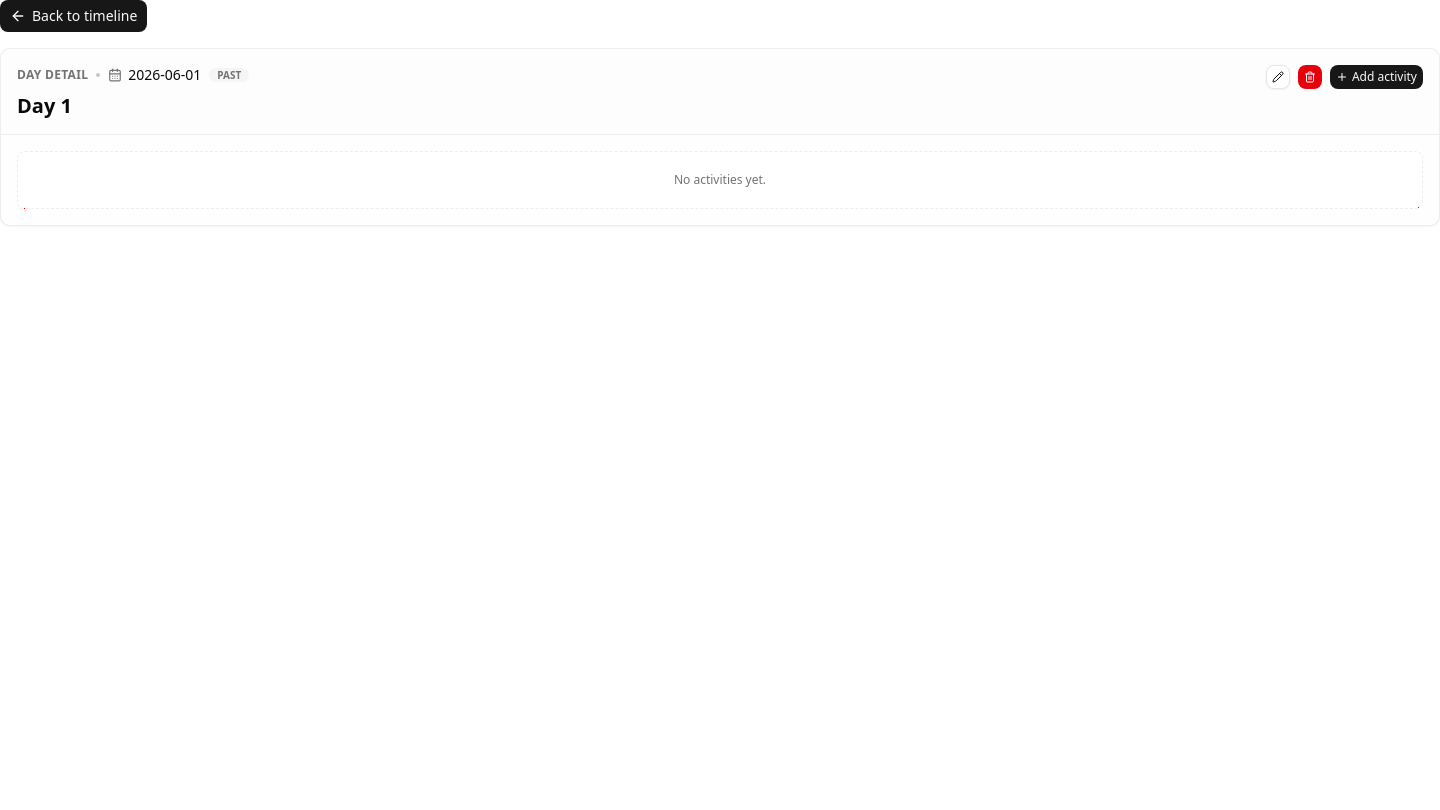
it: TimelineTab › shows the date field when editing an in-range day
This screenshot has width=1440, height=810.
Click the button named "Edit Day 1" at (1278, 77), box [1266,65,1290,89]
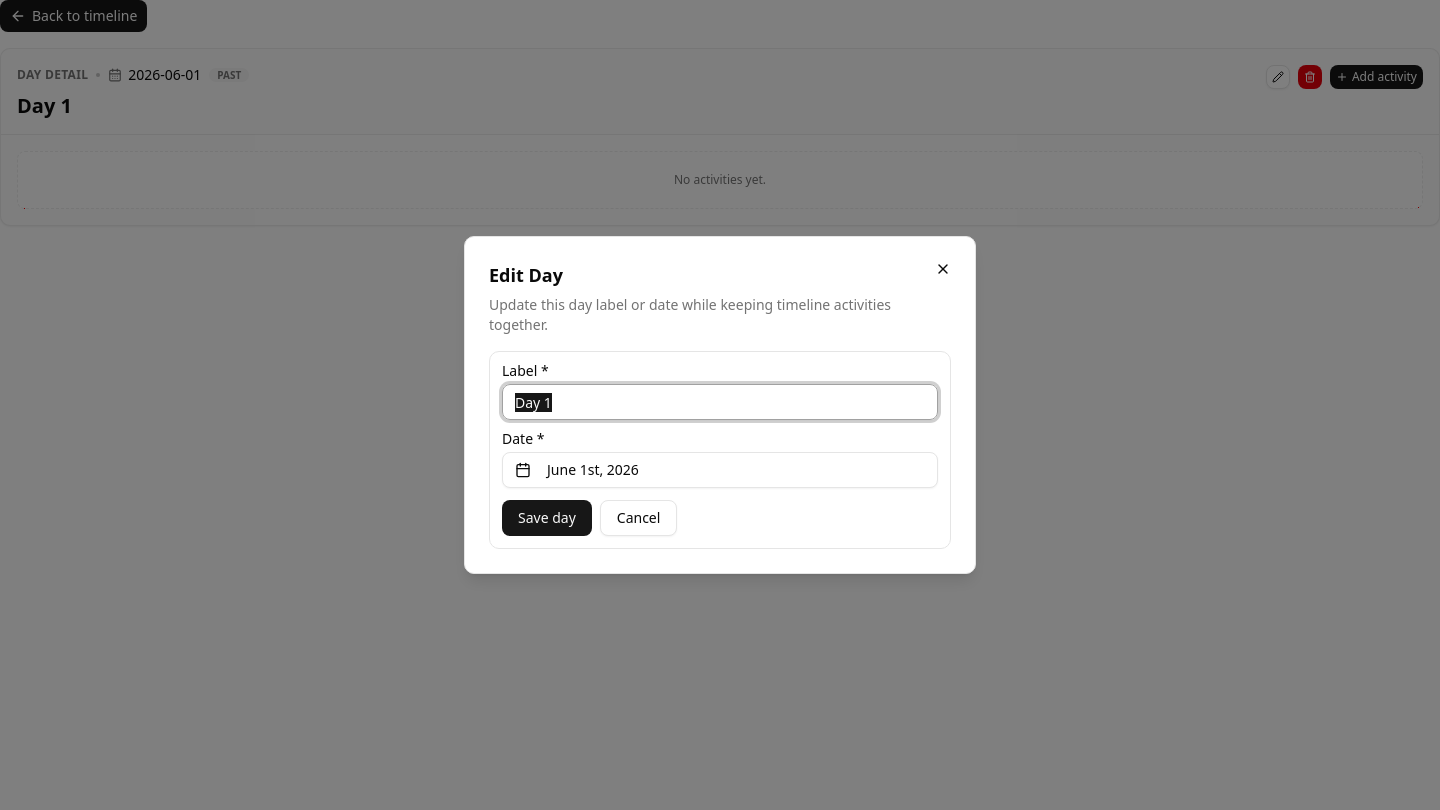
expect the text "Date *" is shown: met, box [502,429,544,448]
expect the button with aria-label "Selected June 1st, 2026" is shown: met, box [502,452,938,488]
